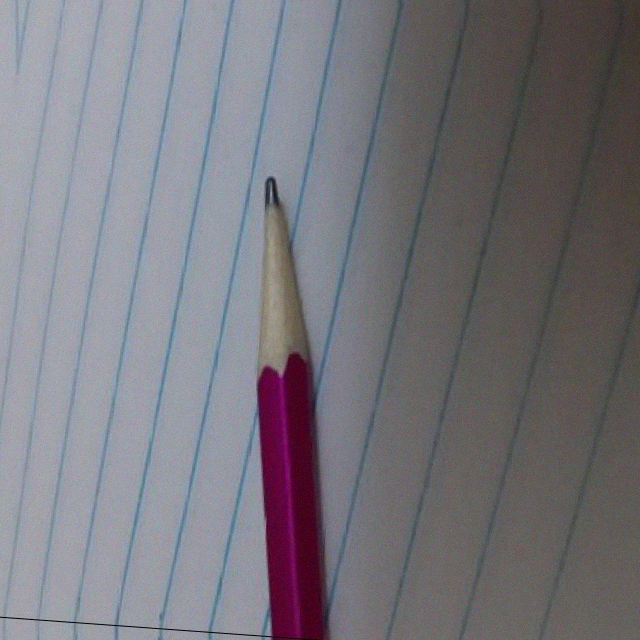pencil: (227, 167, 322, 384)
